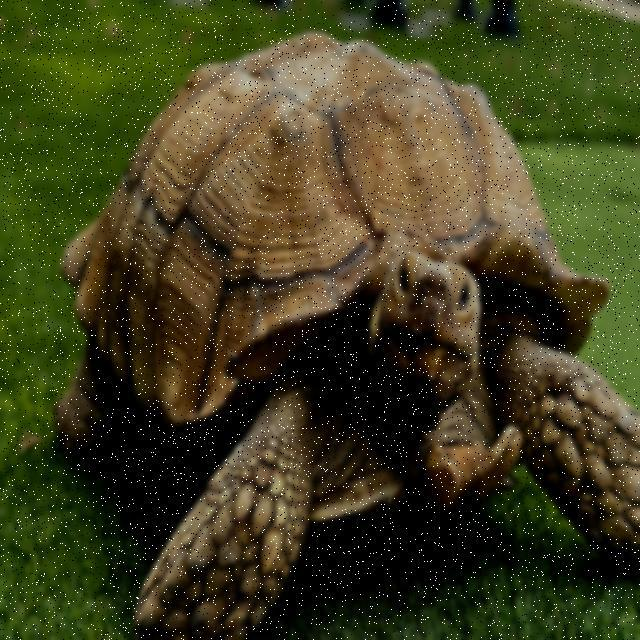tortoise: (38, 36, 640, 640)
